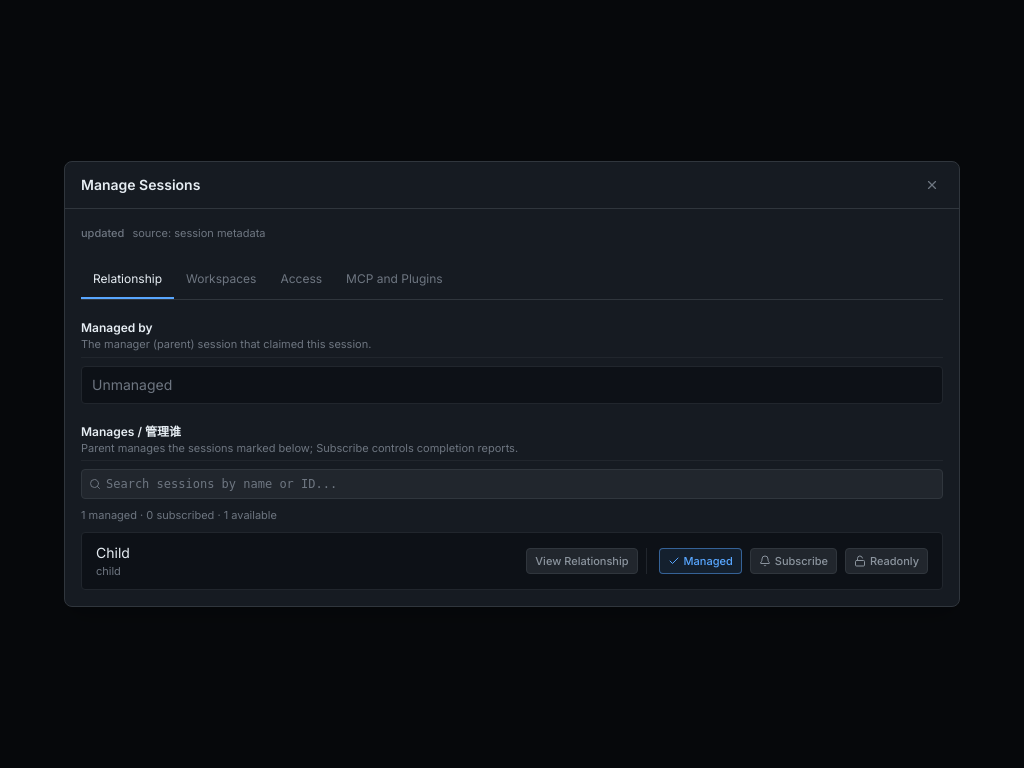
Test case: ManageModal › opens a managed Session relationship when selected from Manages
The image size is (1024, 768).
Click the button with aria-label "View Relationship for Child": (582, 561) [526,548,638,574]
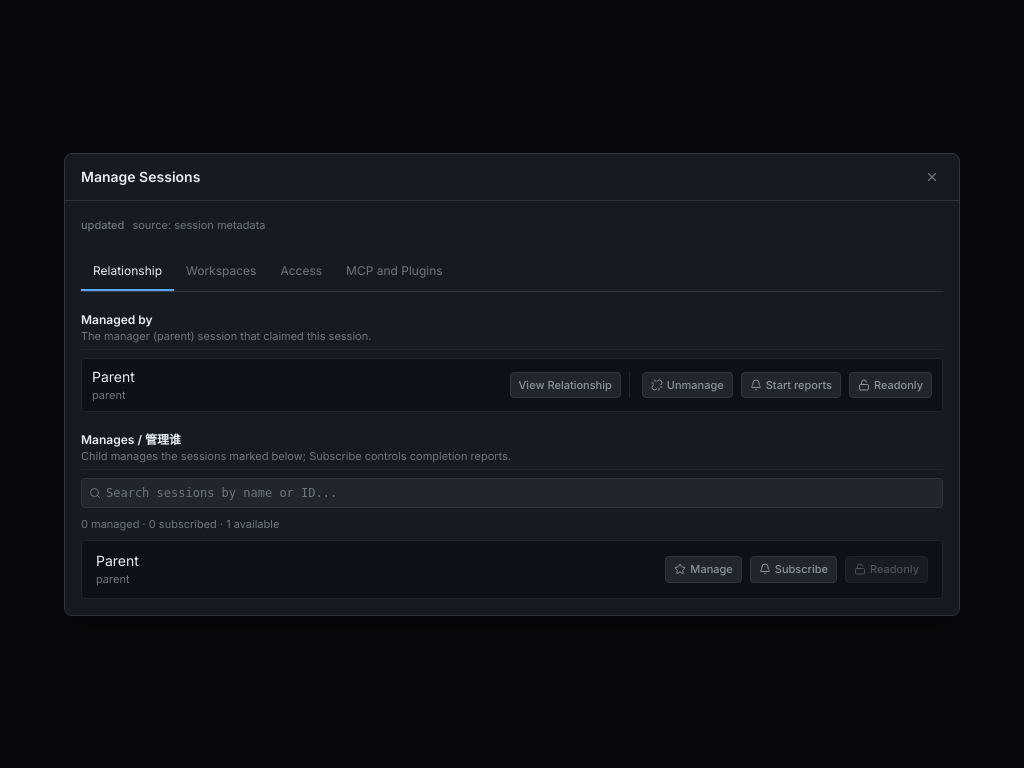
Expected: the button with aria-label "View Relationship for Parent" is shown, [510,372,621,398]
Result: the text "Child manages the sessions marked below" is shown at [81,449,511,463]
Result: the text "parent" below "Managed by" is shown at [92,388,126,402]
